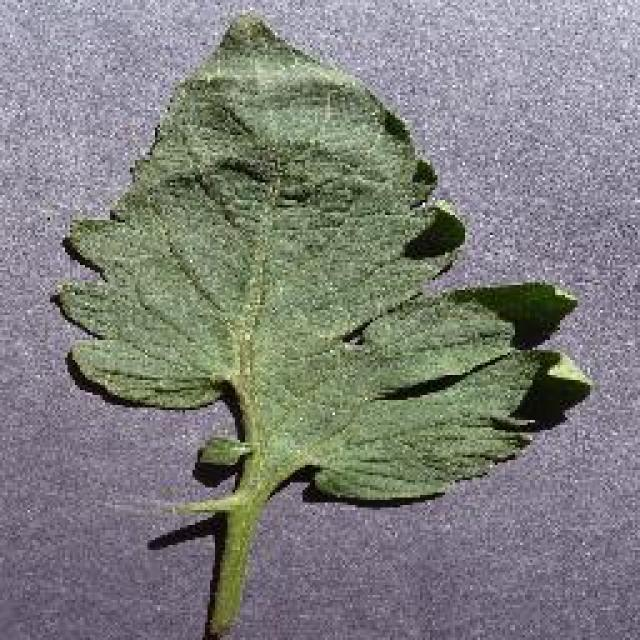Tomato_Healthy: (68, 18, 592, 531)
